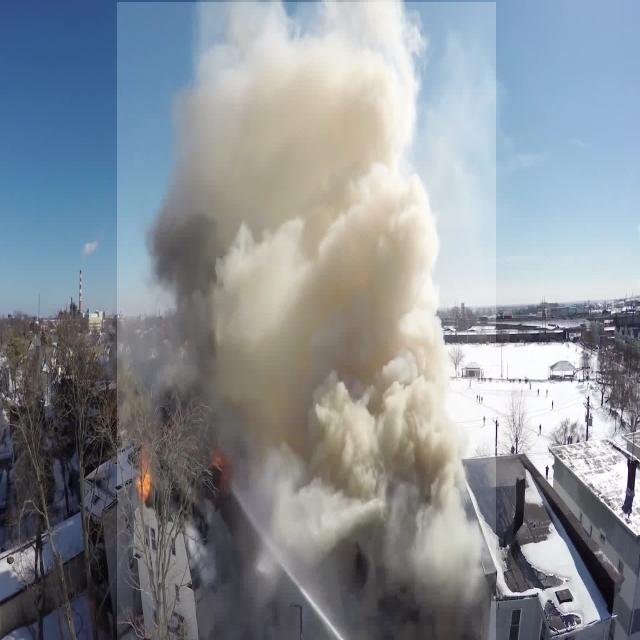Fire: (130, 430, 244, 518)
Smoke: (117, 2, 496, 640)
